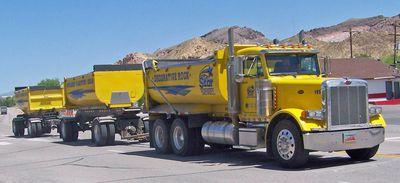truck: (147, 31, 396, 165)
